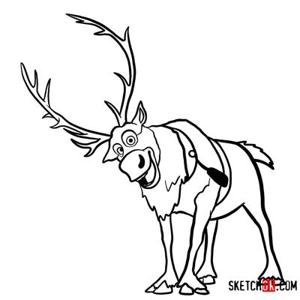sven: (11, 13, 274, 294)
